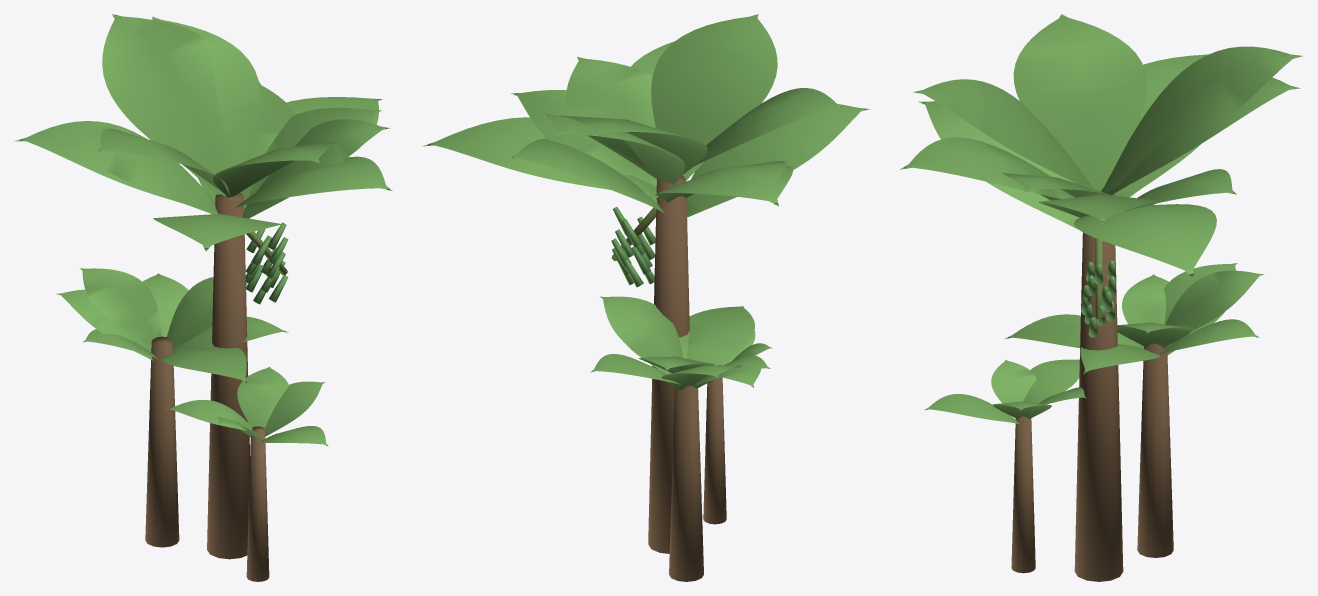
The model's file is banana_plant.71364132.glb.
3 views of the same model, side by side, from view 1: azimuth 30°, elevation 25°; view 2: azimuth 150°, elevation 25°; view 3: azimuth 270°, elevation 25° (orthographic). The views are drawn at different scales.
Visible parts, largest first — view 1: banana_plant; view 2: banana_plant; view 3: banana_plant.
Boxes of the visible parts, bbox=[...] form: banana_plant: bbox=[14, 14, 392, 581]; banana_plant: bbox=[422, 14, 870, 581]; banana_plant: bbox=[900, 14, 1302, 581].
Size of the model in its own units: 2.92 by 3.67 by 2.67.
